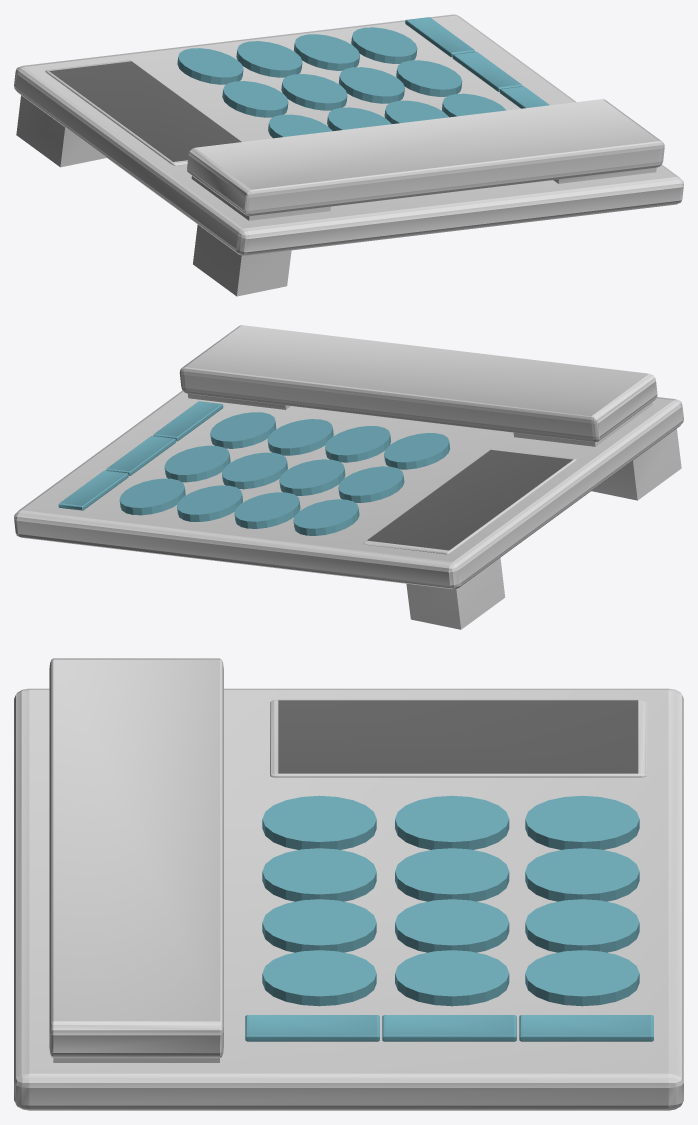
File: BT Phone.fbx
3 views of the same model, one above another, from view 1: azimuth 30°, elevation 25°; view 2: azimuth 150°, elevation 25°; view 3: azimuth 270°, elevation 25° (orthographic). The views are drawn at different scales.
Visible parts, largest first — view 1: pCylinder14; view 2: pCylinder14; view 3: pCylinder14.
Part boxes in pixels (x1,y1,x2,y2): pCylinder14: (14, 14, 683, 296); pCylinder14: (14, 325, 683, 629); pCylinder14: (14, 658, 683, 1110).
Size of the model in its own units: 14.67 by 3.41 by 13.18.
